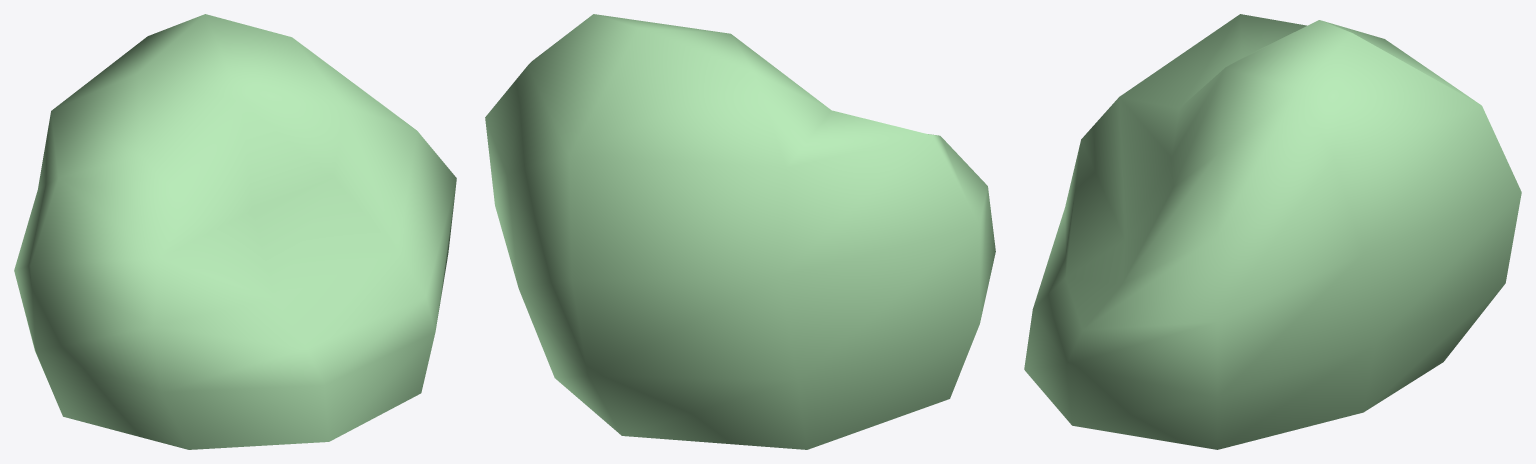
Rendered from Rock3_Large.fbx.
3 views of the same model, side by side, from view 1: azimuth 30°, elevation 25°; view 2: azimuth 150°, elevation 25°; view 3: azimuth 270°, elevation 25° (orthographic). The views are drawn at different scales.
Parts seen in each view (by area): view 1: Rock3_Large; view 2: Rock3_Large; view 3: Rock3_Large.
Boxes of the visible parts, left/top/right/bottom form: Rock3_Large: left=14, top=14, right=456, bottom=449; Rock3_Large: left=485, top=14, right=995, bottom=449; Rock3_Large: left=1024, top=14, right=1521, bottom=449.
Size of the model in its own units: 1671 by 1193 by 1533.
